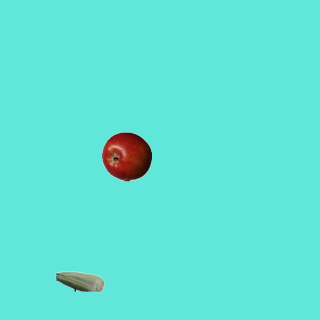Apple Braeburn: (101, 131, 151, 181)
Corn Husk: (54, 256, 104, 306)
